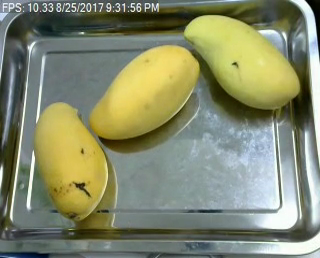Mango: (184, 14, 300, 109), (88, 44, 200, 138), (33, 101, 108, 220)
